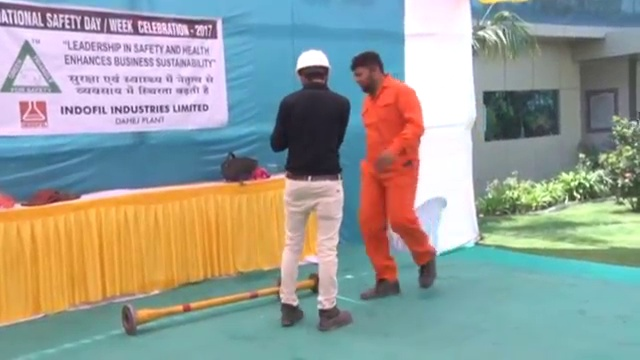helmet: (294, 49, 331, 73)
helmet_off: (350, 51, 386, 96)
helmet_on: (293, 49, 332, 91)
person: (268, 49, 353, 330), (348, 49, 438, 301)
